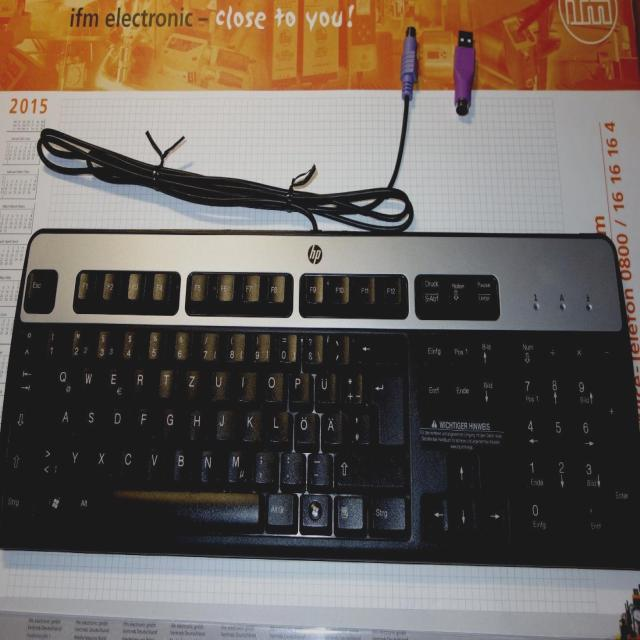0: (276, 330, 297, 363)
1: (44, 325, 64, 357)
2: (70, 325, 90, 358)
3: (95, 327, 115, 359)
4: (121, 327, 141, 358)
5: (146, 328, 166, 359)
6: (172, 328, 192, 360)
7: (198, 329, 218, 361)
8: (224, 329, 244, 362)
9: (250, 329, 270, 362)
a: (55, 403, 75, 436)
accent: (329, 331, 349, 364)
ae: (321, 410, 343, 444)
alt-left: (73, 483, 101, 519)
altgr-right: (265, 490, 294, 525)
b: (172, 445, 192, 478)
c: (118, 444, 139, 478)
caret: (18, 326, 40, 358)
comma: (253, 448, 273, 482)
d: (108, 404, 128, 438)
del: (356, 331, 403, 363)
e: (105, 365, 125, 398)
enter: (369, 370, 404, 444)
f: (134, 405, 154, 437)
g: (161, 405, 181, 438)
h: (188, 407, 208, 439)
hash: (348, 410, 370, 445)
i: (236, 369, 256, 401)
j: (214, 407, 234, 439)
k: (241, 407, 261, 441)
keyboard: (0, 223, 640, 566)
l: (268, 409, 288, 441)
less: (37, 442, 59, 479)
m: (226, 447, 247, 481)
minus: (307, 450, 329, 484)
n: (199, 446, 219, 481)
o: (262, 369, 282, 401)
oe: (294, 409, 316, 443)
p: (289, 369, 309, 401)
plus: (341, 370, 362, 403)
point: (280, 449, 302, 483)
q: (52, 364, 73, 397)
r: (131, 365, 151, 397)
s: (81, 403, 101, 436)
shift-left: (5, 442, 33, 476)
shift-lock: (9, 403, 44, 437)
shift-right: (335, 451, 405, 486)
space: (106, 486, 260, 526)
ss: (302, 331, 323, 364)
strg-left: (0, 481, 35, 520)
strg-right: (369, 493, 407, 530)
t: (157, 366, 176, 396)
tab: (14, 364, 47, 397)
u: (209, 368, 229, 400)
ue: (315, 370, 336, 402)
v: (145, 445, 165, 478)
w: (79, 364, 99, 396)
x: (92, 443, 112, 476)
y: (65, 444, 85, 476)
z: (183, 367, 203, 399)
